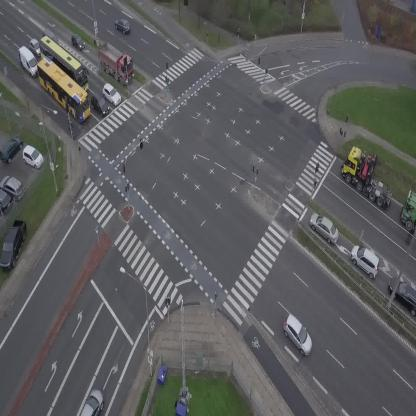bus: (29, 54, 100, 124), (31, 34, 97, 94)
car: (276, 312, 320, 358), (344, 241, 386, 279), (304, 209, 344, 246), (80, 387, 109, 416), (98, 81, 124, 107), (87, 92, 112, 119), (66, 31, 88, 53), (112, 15, 133, 36), (42, 28, 61, 42), (29, 38, 38, 57)
lorry: (333, 141, 409, 211), (88, 36, 142, 88), (12, 44, 43, 80), (401, 191, 416, 232)
